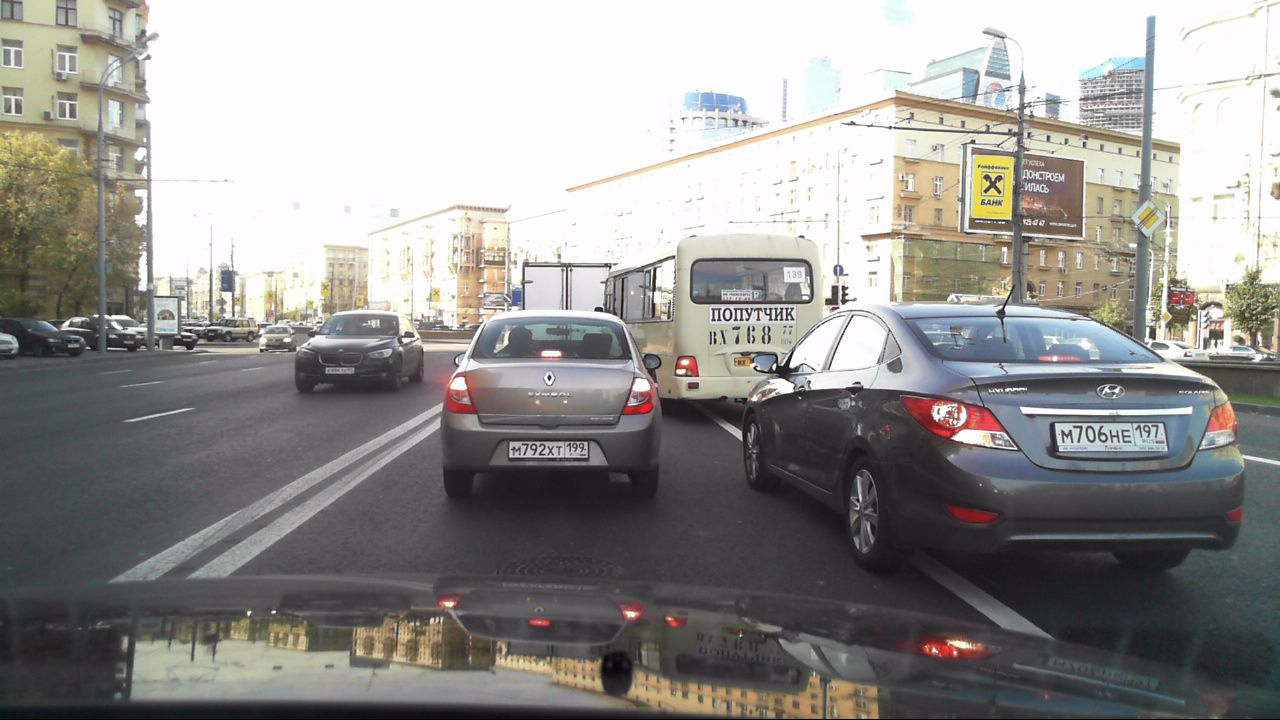main road: (1129, 198, 1165, 236)
